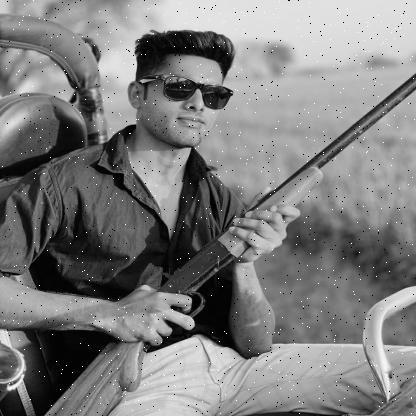rifle: (43, 72, 416, 416)
